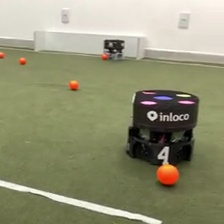ball: (155, 162, 180, 188), (68, 78, 79, 90), (18, 55, 27, 65), (101, 52, 108, 60), (1, 50, 5, 59)
goal: (32, 29, 147, 60)
robot: (125, 87, 201, 168), (101, 38, 126, 62)
